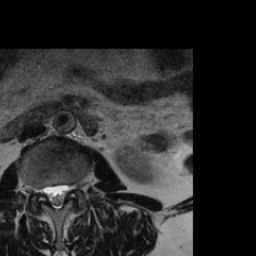CCS_normal: (52, 172, 59, 217)
LFS_stenosis: (69, 172, 79, 201)
LLS_normal: (59, 172, 69, 212)
RFS_severe_stenosis: (35, 176, 42, 204)
RLS_normal: (42, 175, 52, 210)
